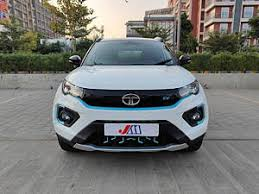Tata Nexon: (53, 34, 210, 157)
